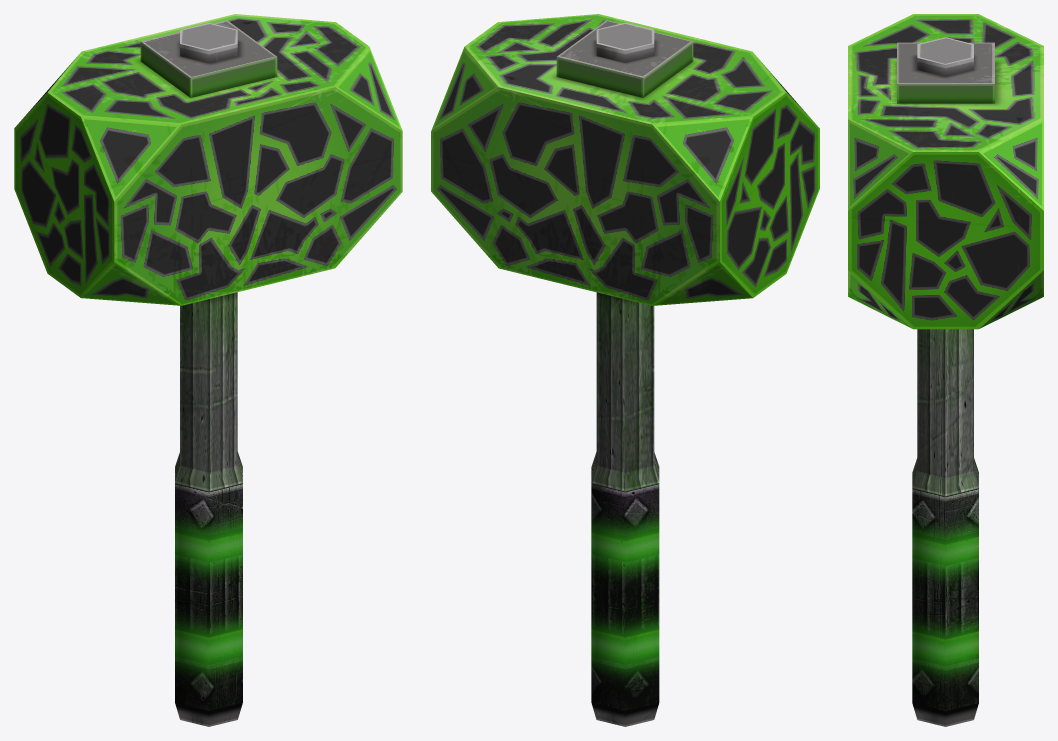
The model's file is hammer03_magic.FBX.
3 renders of one model, left to right at view 1: azimuth 30°, elevation 25°; view 2: azimuth 150°, elevation 25°; view 3: azimuth 270°, elevation 25°, orthographic. The views are drawn at different scales.
Visible parts, largest first — view 1: hammer03; view 2: hammer03; view 3: hammer03.
Part boxes in pixels (x1,y1,x2,y2): hammer03: (14,14,402,726); hammer03: (431,14,819,726); hammer03: (848,14,1043,726).
Bounding box in the file's own units: 0.4305 × 0.9636 × 0.2583.
